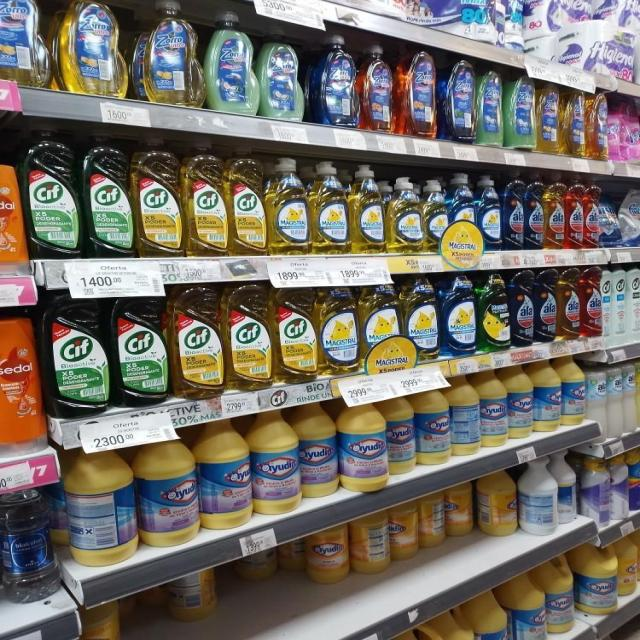ala_conc_amarillo: (544, 172, 565, 250), (558, 268, 580, 340)
ala_conc_azul: (510, 271, 534, 346), (502, 171, 524, 251), (534, 270, 556, 342), (524, 172, 544, 250)
ala_conc_rojo: (581, 266, 601, 338), (566, 174, 584, 249), (584, 177, 599, 248)
ala_crem_blanco: (586, 361, 607, 440), (608, 362, 624, 437), (623, 361, 637, 434)
cif_conc_bot_amarilla: (171, 282, 223, 398), (133, 134, 181, 258), (183, 137, 227, 258), (225, 281, 272, 391), (227, 144, 266, 257), (274, 283, 316, 383)
cif_conc_botella_verde: (45, 290, 109, 416), (24, 124, 80, 258), (112, 288, 169, 407), (83, 129, 133, 258)
magistral_con_amarillo: (268, 156, 309, 255), (361, 281, 404, 371), (318, 284, 360, 376), (311, 160, 348, 255), (350, 163, 386, 254), (405, 276, 441, 361), (388, 176, 422, 254), (423, 178, 447, 254)
magistral_con_azul: (442, 274, 477, 356), (447, 172, 477, 258), (478, 174, 502, 251)
